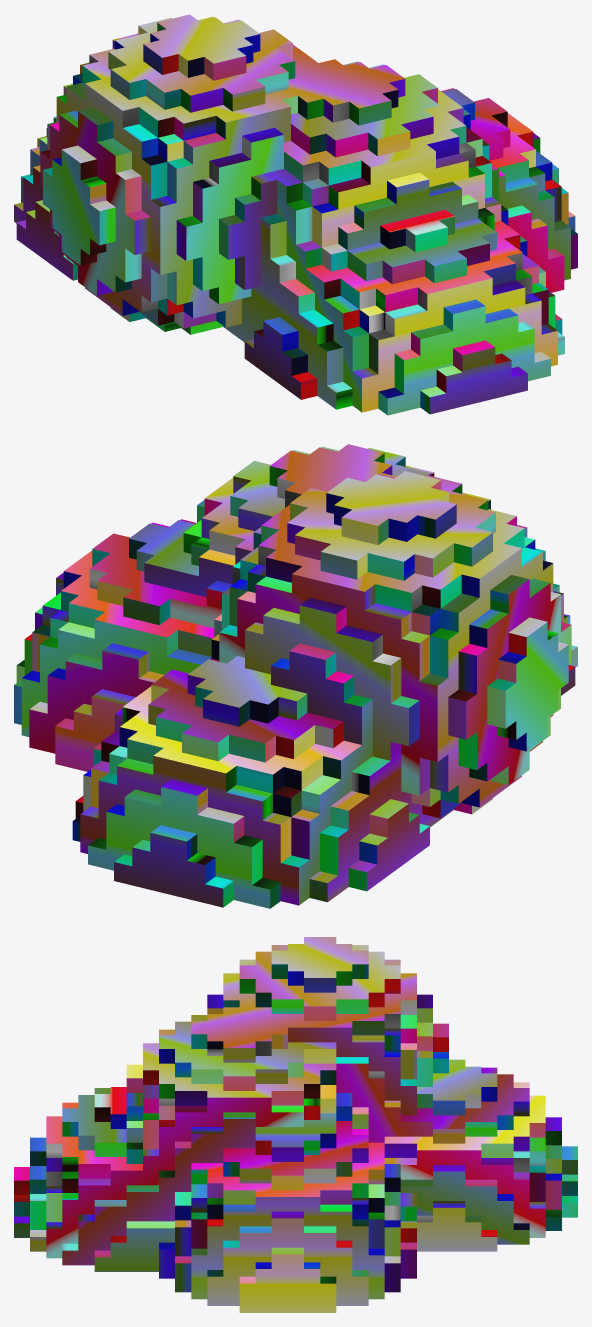
The model's file is bush.fbx.
3 renders of one model, top to bottom at view 1: azimuth 30°, elevation 25°; view 2: azimuth 150°, elevation 25°; view 3: azimuth 270°, elevation 25°, orthographic. The views are drawn at different scales.
Visible parts, largest first — view 1: bush; view 2: bush; view 3: bush.
Boxes of the visible parts, x1,y1,x2,y2 form: bush: (14,14,577,415); bush: (14,444,577,908); bush: (14,937,577,1312).
Bounding box in the file's own units: 280 × 150 × 350.
